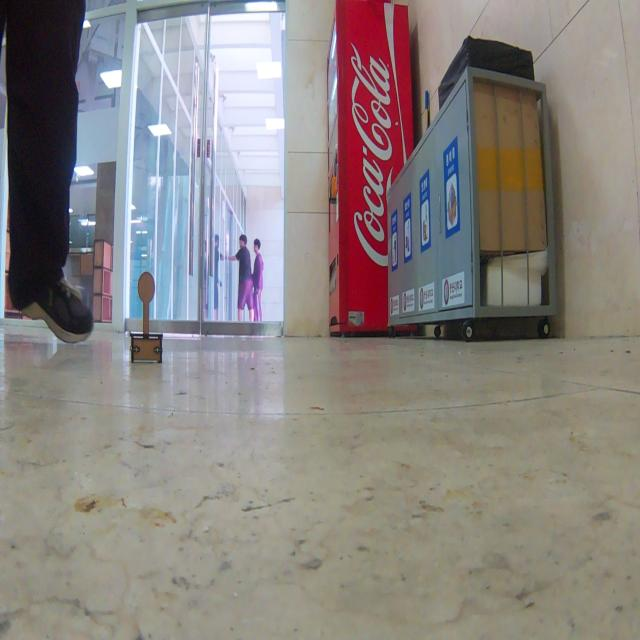target: (130, 272, 163, 363)
